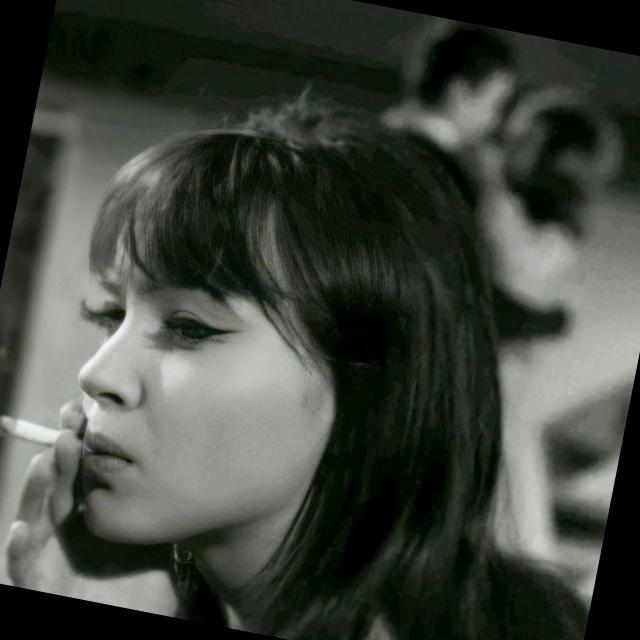smoke: (0, 388, 118, 480)
